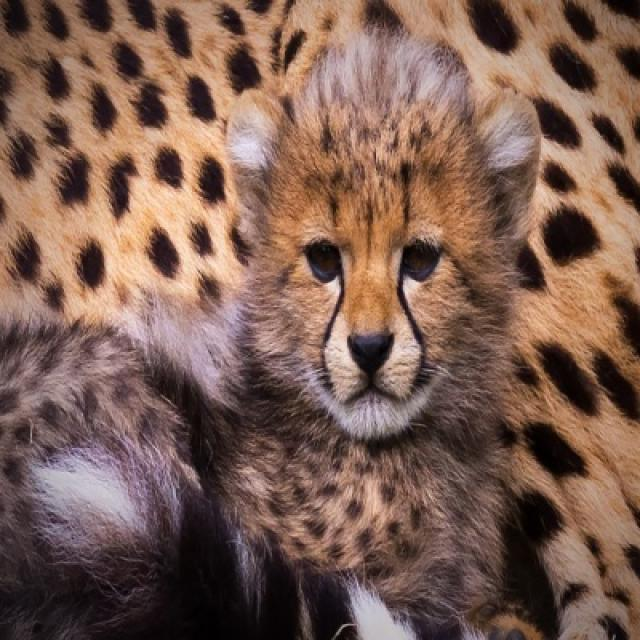Cheetah: (210, 27, 543, 611)
